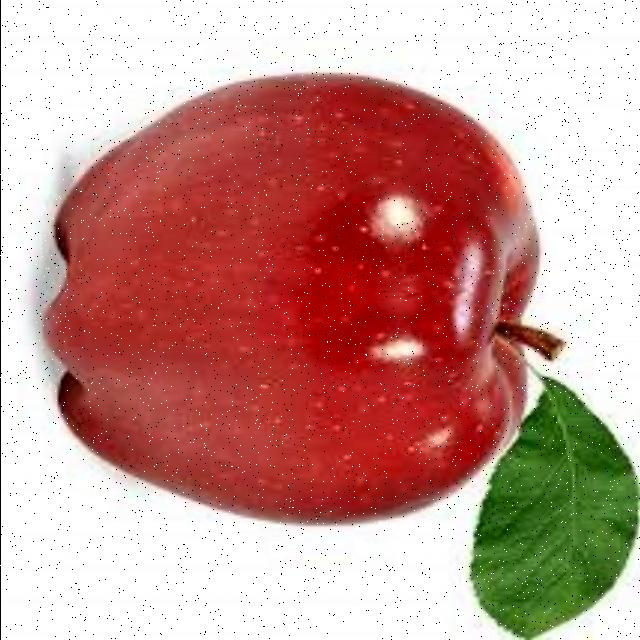HEALTHY: (51, 62, 558, 523)
